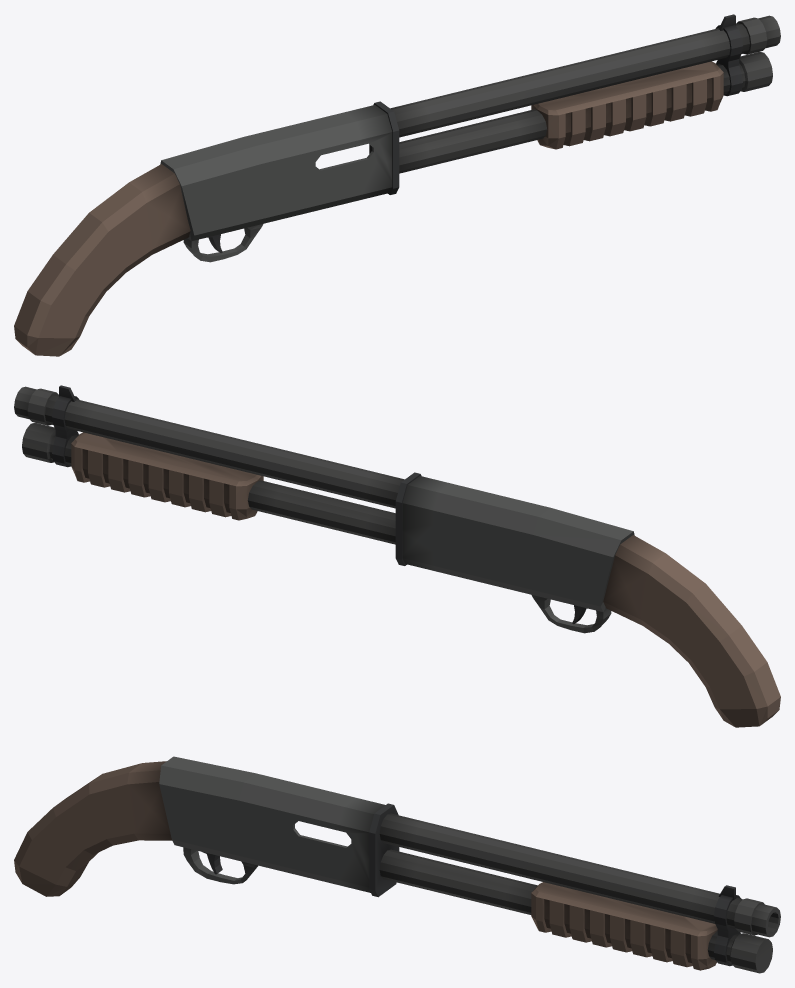
The model's file is q-shotgun-shortstock.glb.
3 views of the same model, one above another, from view 1: azimuth 30°, elevation 25°; view 2: azimuth 150°, elevation 25°; view 3: azimuth 330°, elevation 25° (orthographic).
Visible parts, largest first — view 1: body; view 2: body; view 3: body.
Boxes of the visible parts, bbox=[...] form: body: bbox=[14, 14, 780, 356]; body: bbox=[14, 385, 780, 727]; body: bbox=[14, 756, 780, 973].
Bounding box in the file's own units: 1 × 0.2162 × 0.0551.
